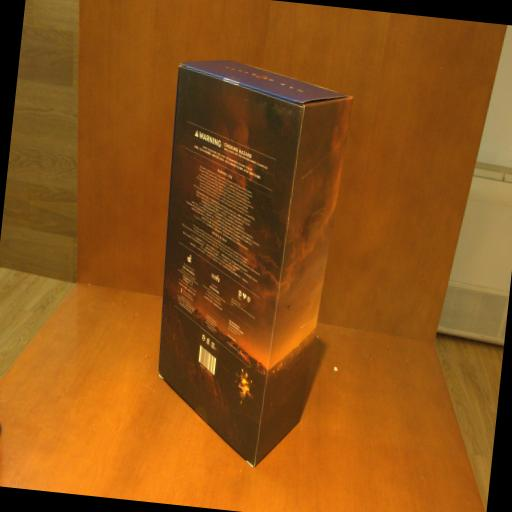superman: (138, 54, 356, 474)
